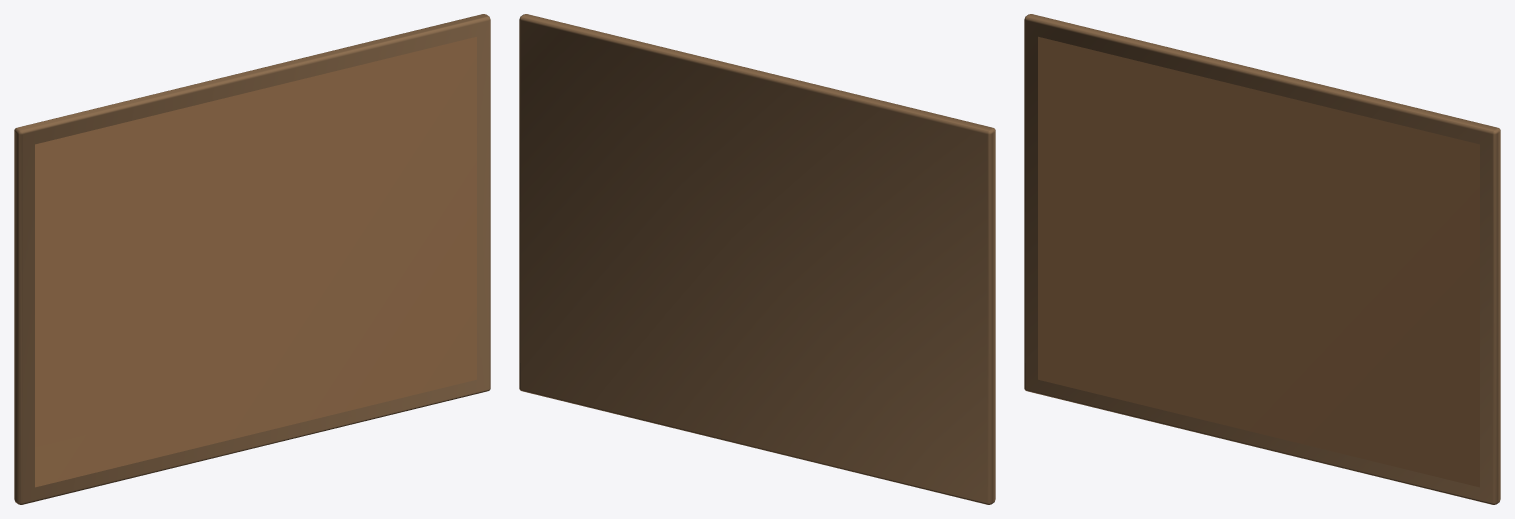
File: board.glb
3 renders of one model, left to right at view 1: azimuth 30°, elevation 25°; view 2: azimuth 150°, elevation 25°; view 3: azimuth 330°, elevation 25°, orthographic.
Parts seen in each view (by area): view 1: Cork, cornice; view 2: cornice; view 3: Cork, cornice.
Boxes of the visible parts, x1,y1,x2,y2 form: Cork: [35, 36, 476, 487]; cornice: [14, 14, 490, 504]; cornice: [519, 14, 995, 504]; Cork: [1038, 36, 1479, 487]; cornice: [1024, 14, 1500, 504].
Bounding box in the file's own units: 1.24 × 0.94 × 0.031.
